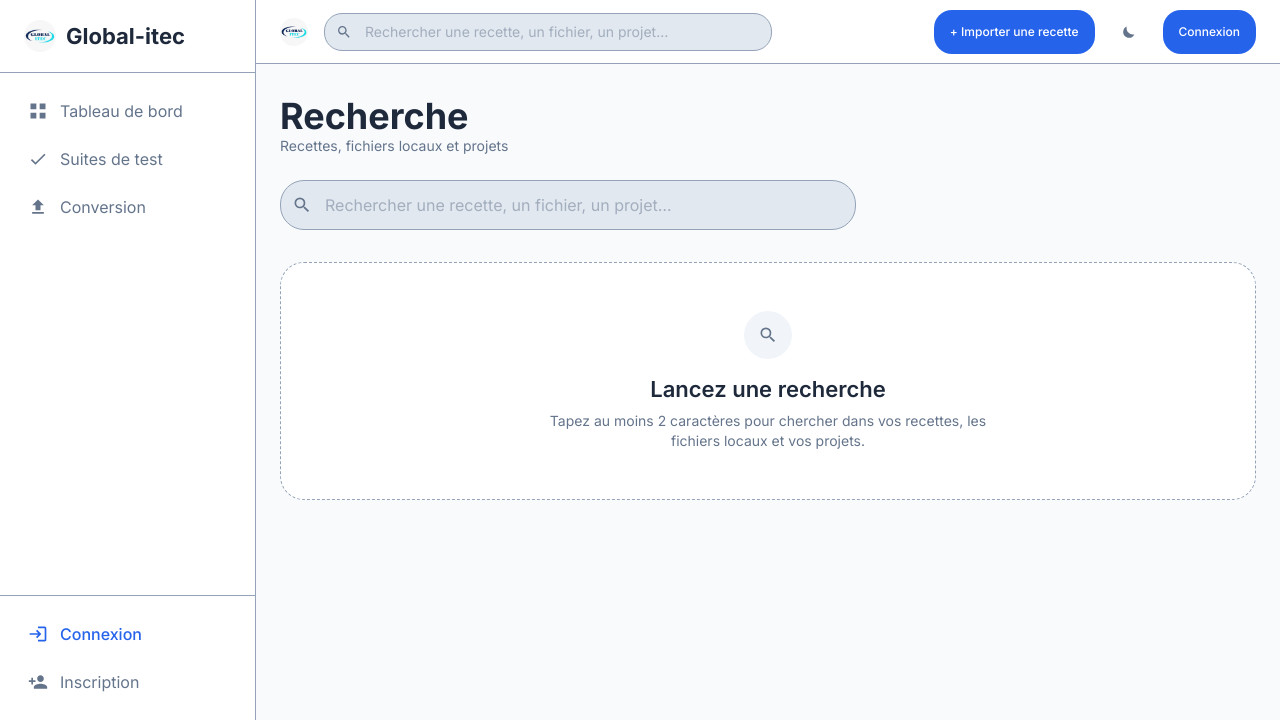
Test case: SearchPage › filters recipes by query
The width and height of the screenshot is (1280, 720).
Type "sprint" into the search field named "Recherche globale".
click(568, 205); type("sprint")  # box [280,180,856,230]
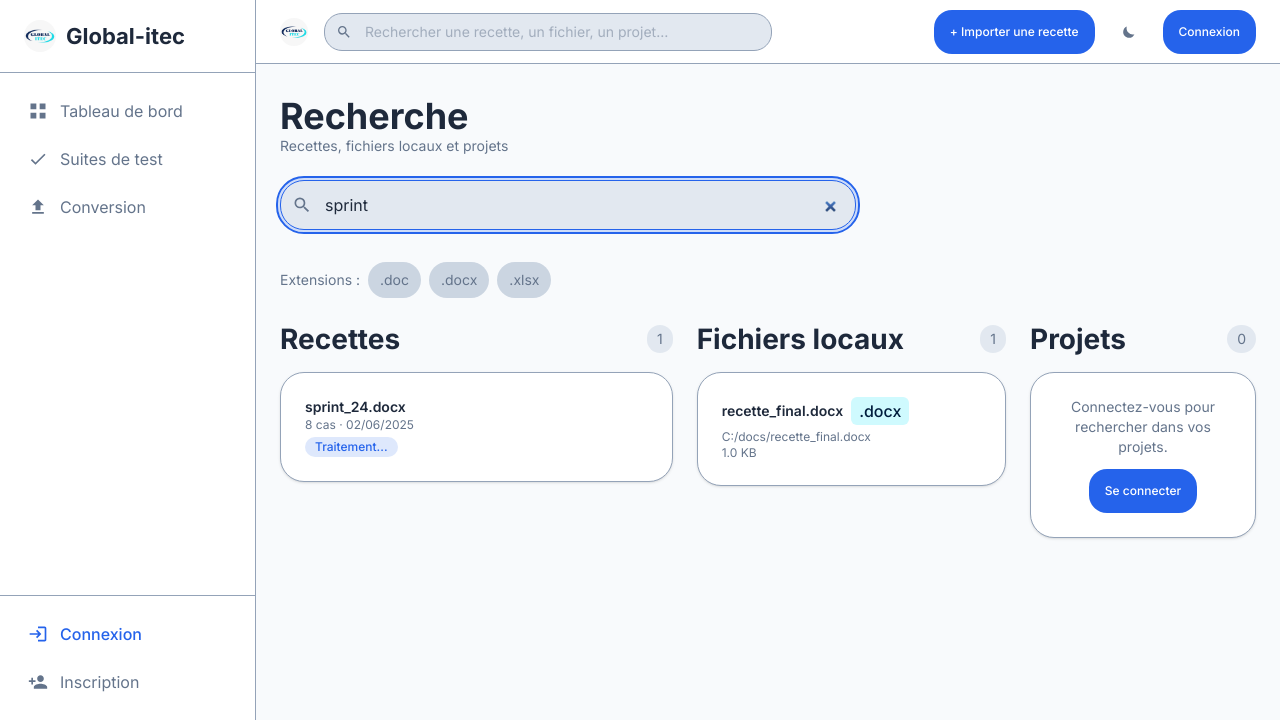
Check: the text "sprint_24.docx" is shown, box [305,398,406,415]
